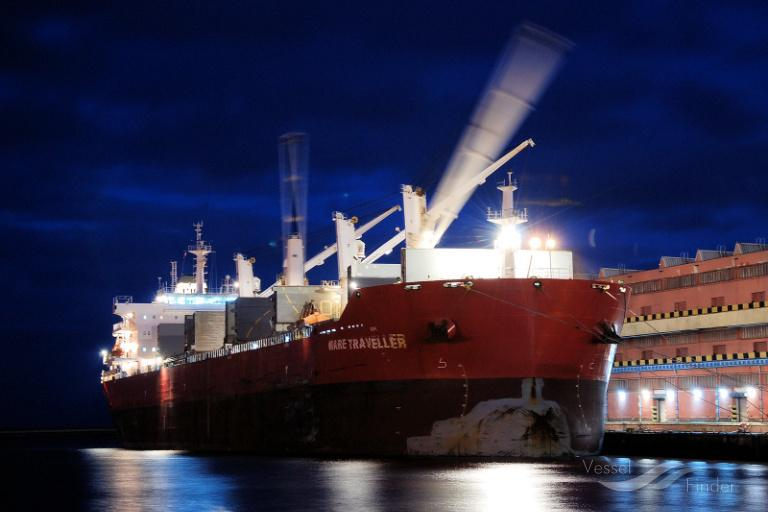OCR: (314, 332, 412, 352)
